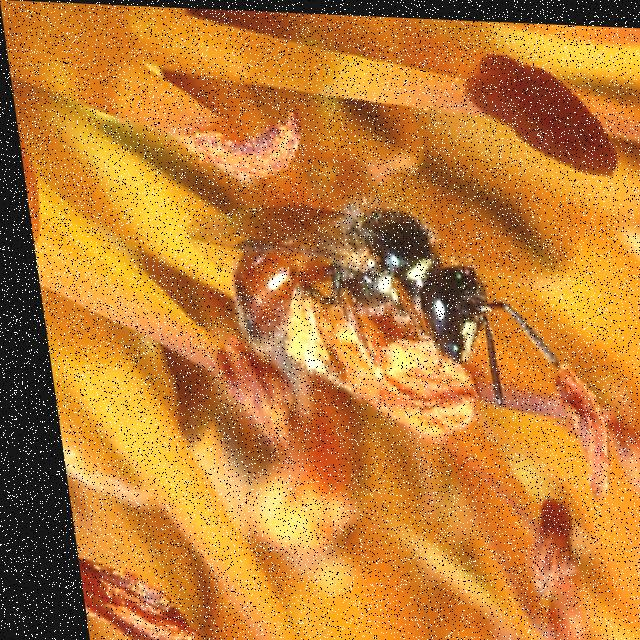Allodapula: (178, 168, 569, 409)
